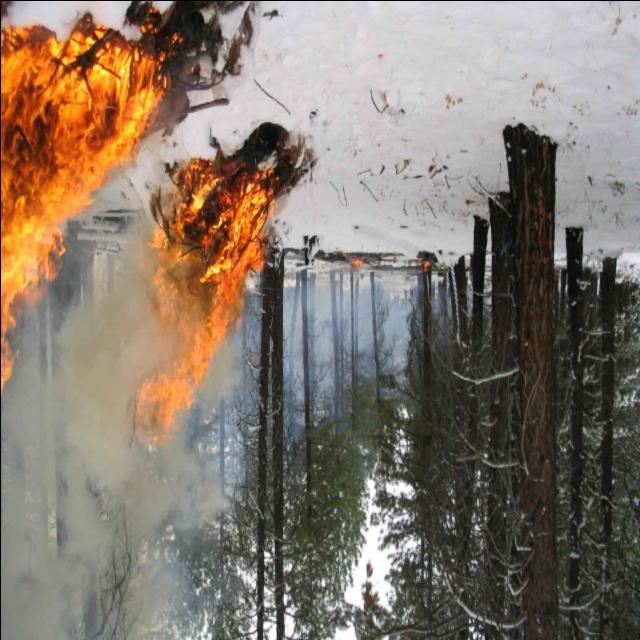Fire: (0, 33, 259, 431)
